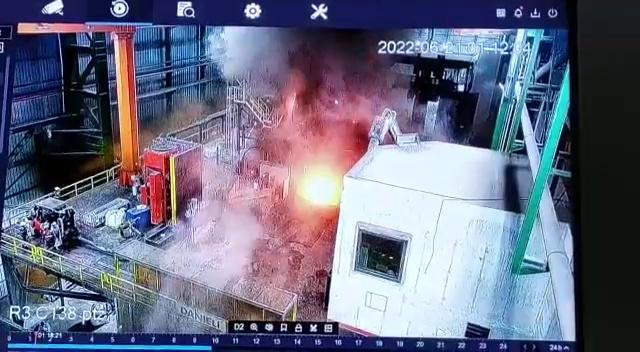fire: (259, 103, 386, 220)
